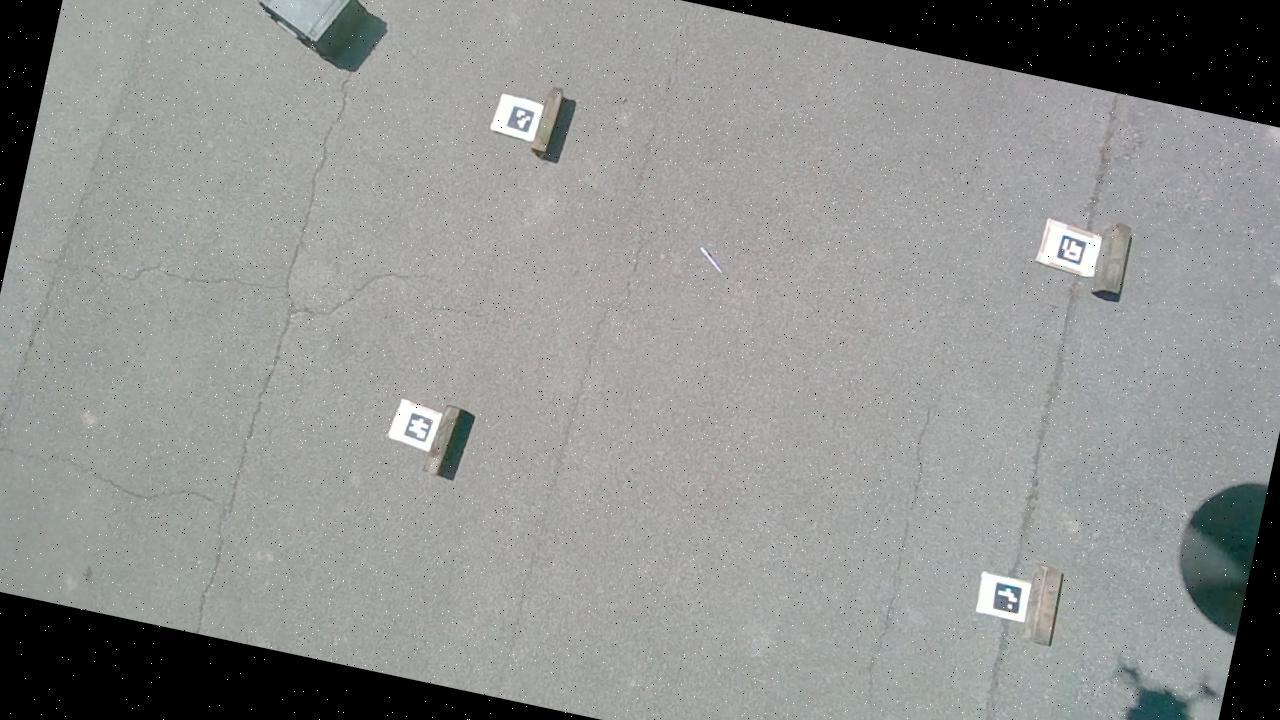probes: (696, 247, 726, 273)
rako: (247, 0, 397, 78)
